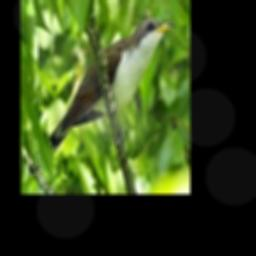Cuckoo: (29, 18, 174, 173)
